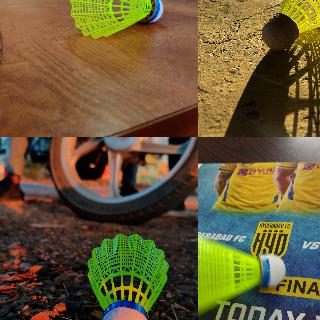shuttlecock: (198, 233, 286, 319), (87, 233, 170, 319), (69, 0, 163, 39), (262, 0, 319, 51)
